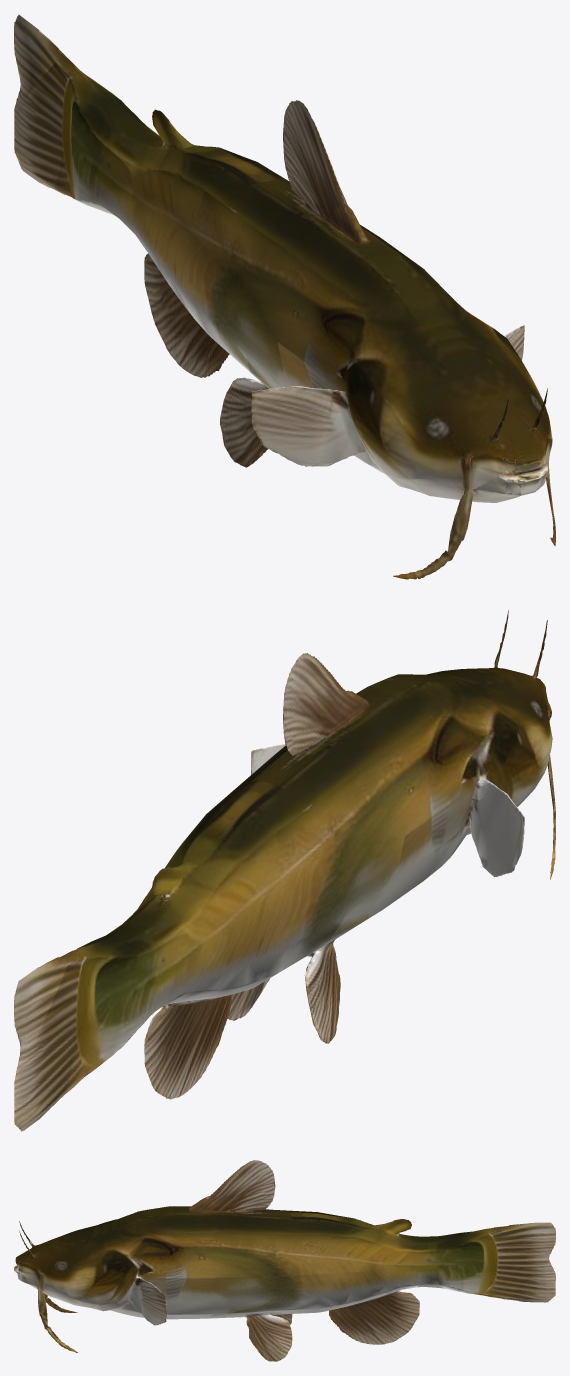
The model's file is channel.glb.
3 renders of one model, top to bottom at view 1: azimuth 30°, elevation 25°; view 2: azimuth 150°, elevation 25°; view 3: azimuth 270°, elevation 25°, orthographic. The views are drawn at different scales.
Visible parts, largest first — view 1: model_0; view 2: model_0; view 3: model_0.
Boxes of the visible parts, <box> form: model_0: <box>14,14,555,579</box>; model_0: <box>14,610,555,1131</box>; model_0: <box>14,1160,555,1361</box>.
Size of the model in its own units: 0.5773 by 0.7336 by 1.9.
1 material, 1 textured.
